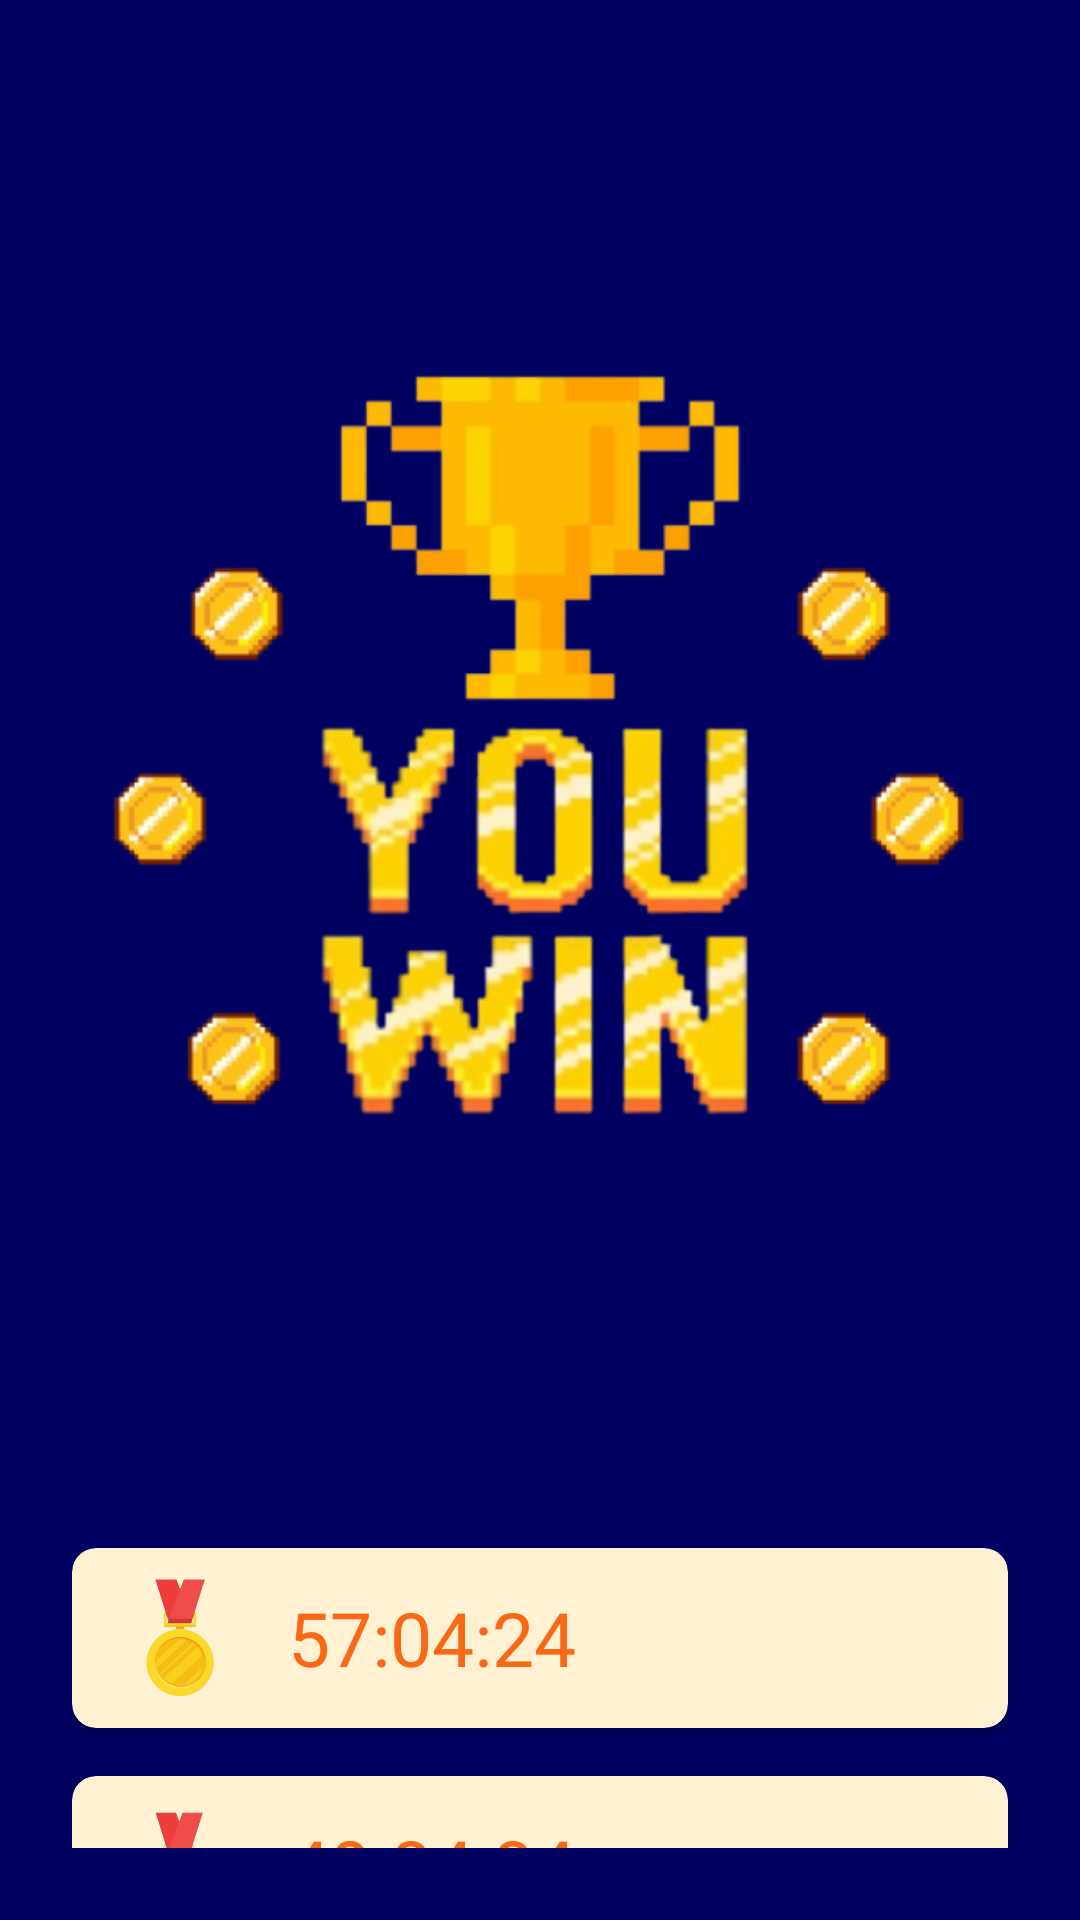

Icons on this 1080 × 1920 Android screen, each with its box as rect(x1, y1, x2, y2):
goldmedal: rect(146, 1579, 214, 1696)
